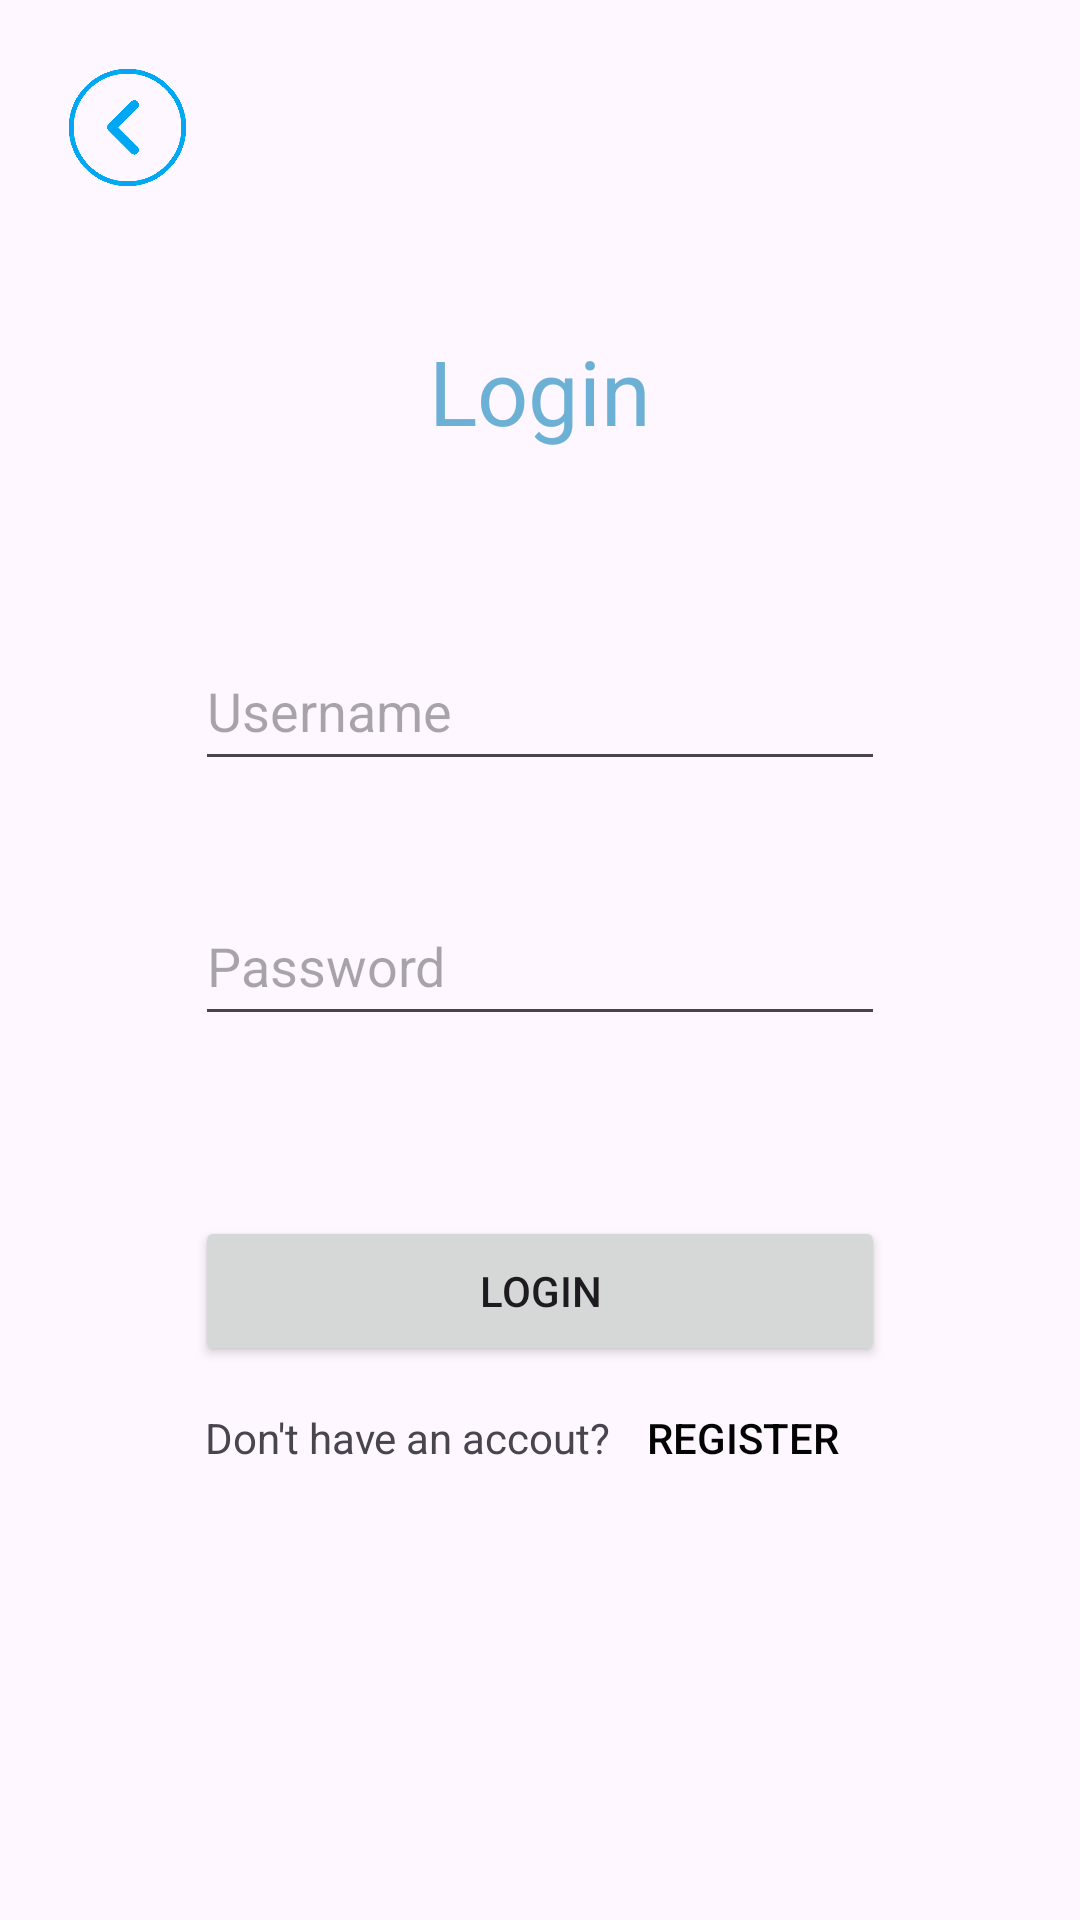

Screen size 1080×1920. Icon name, then its box in pixels as detection(x1, y1, x2, y2):
back: detection(69, 69, 186, 186)
